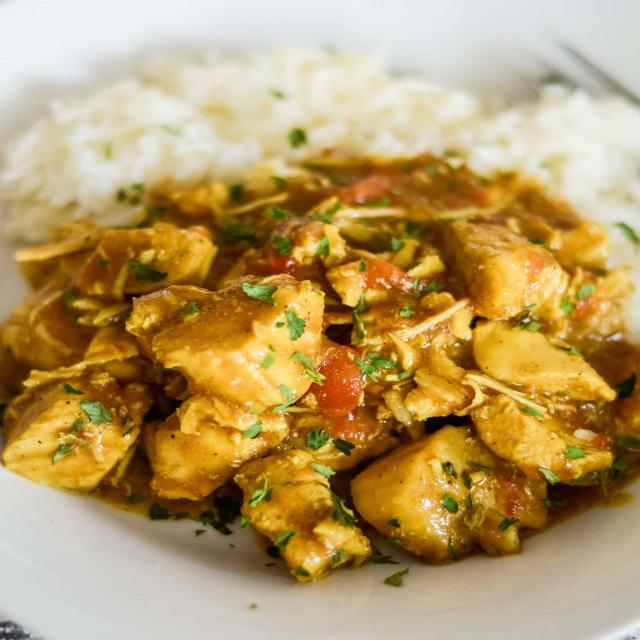chicken: (0, 206, 640, 527)
rice: (18, 22, 640, 200)
